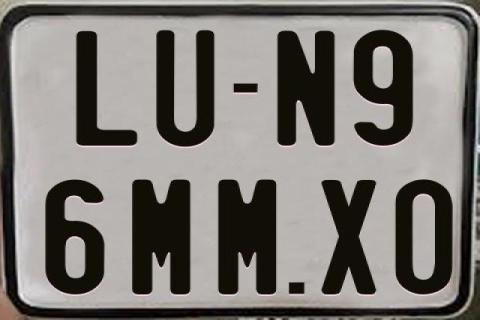0: (350, 28, 414, 144), (42, 177, 103, 293), (395, 179, 453, 295)
L: (74, 29, 139, 143)
M: (218, 178, 281, 296), (129, 180, 188, 300)
N: (277, 29, 336, 150)
U: (156, 29, 218, 145)
X: (318, 178, 375, 294)
